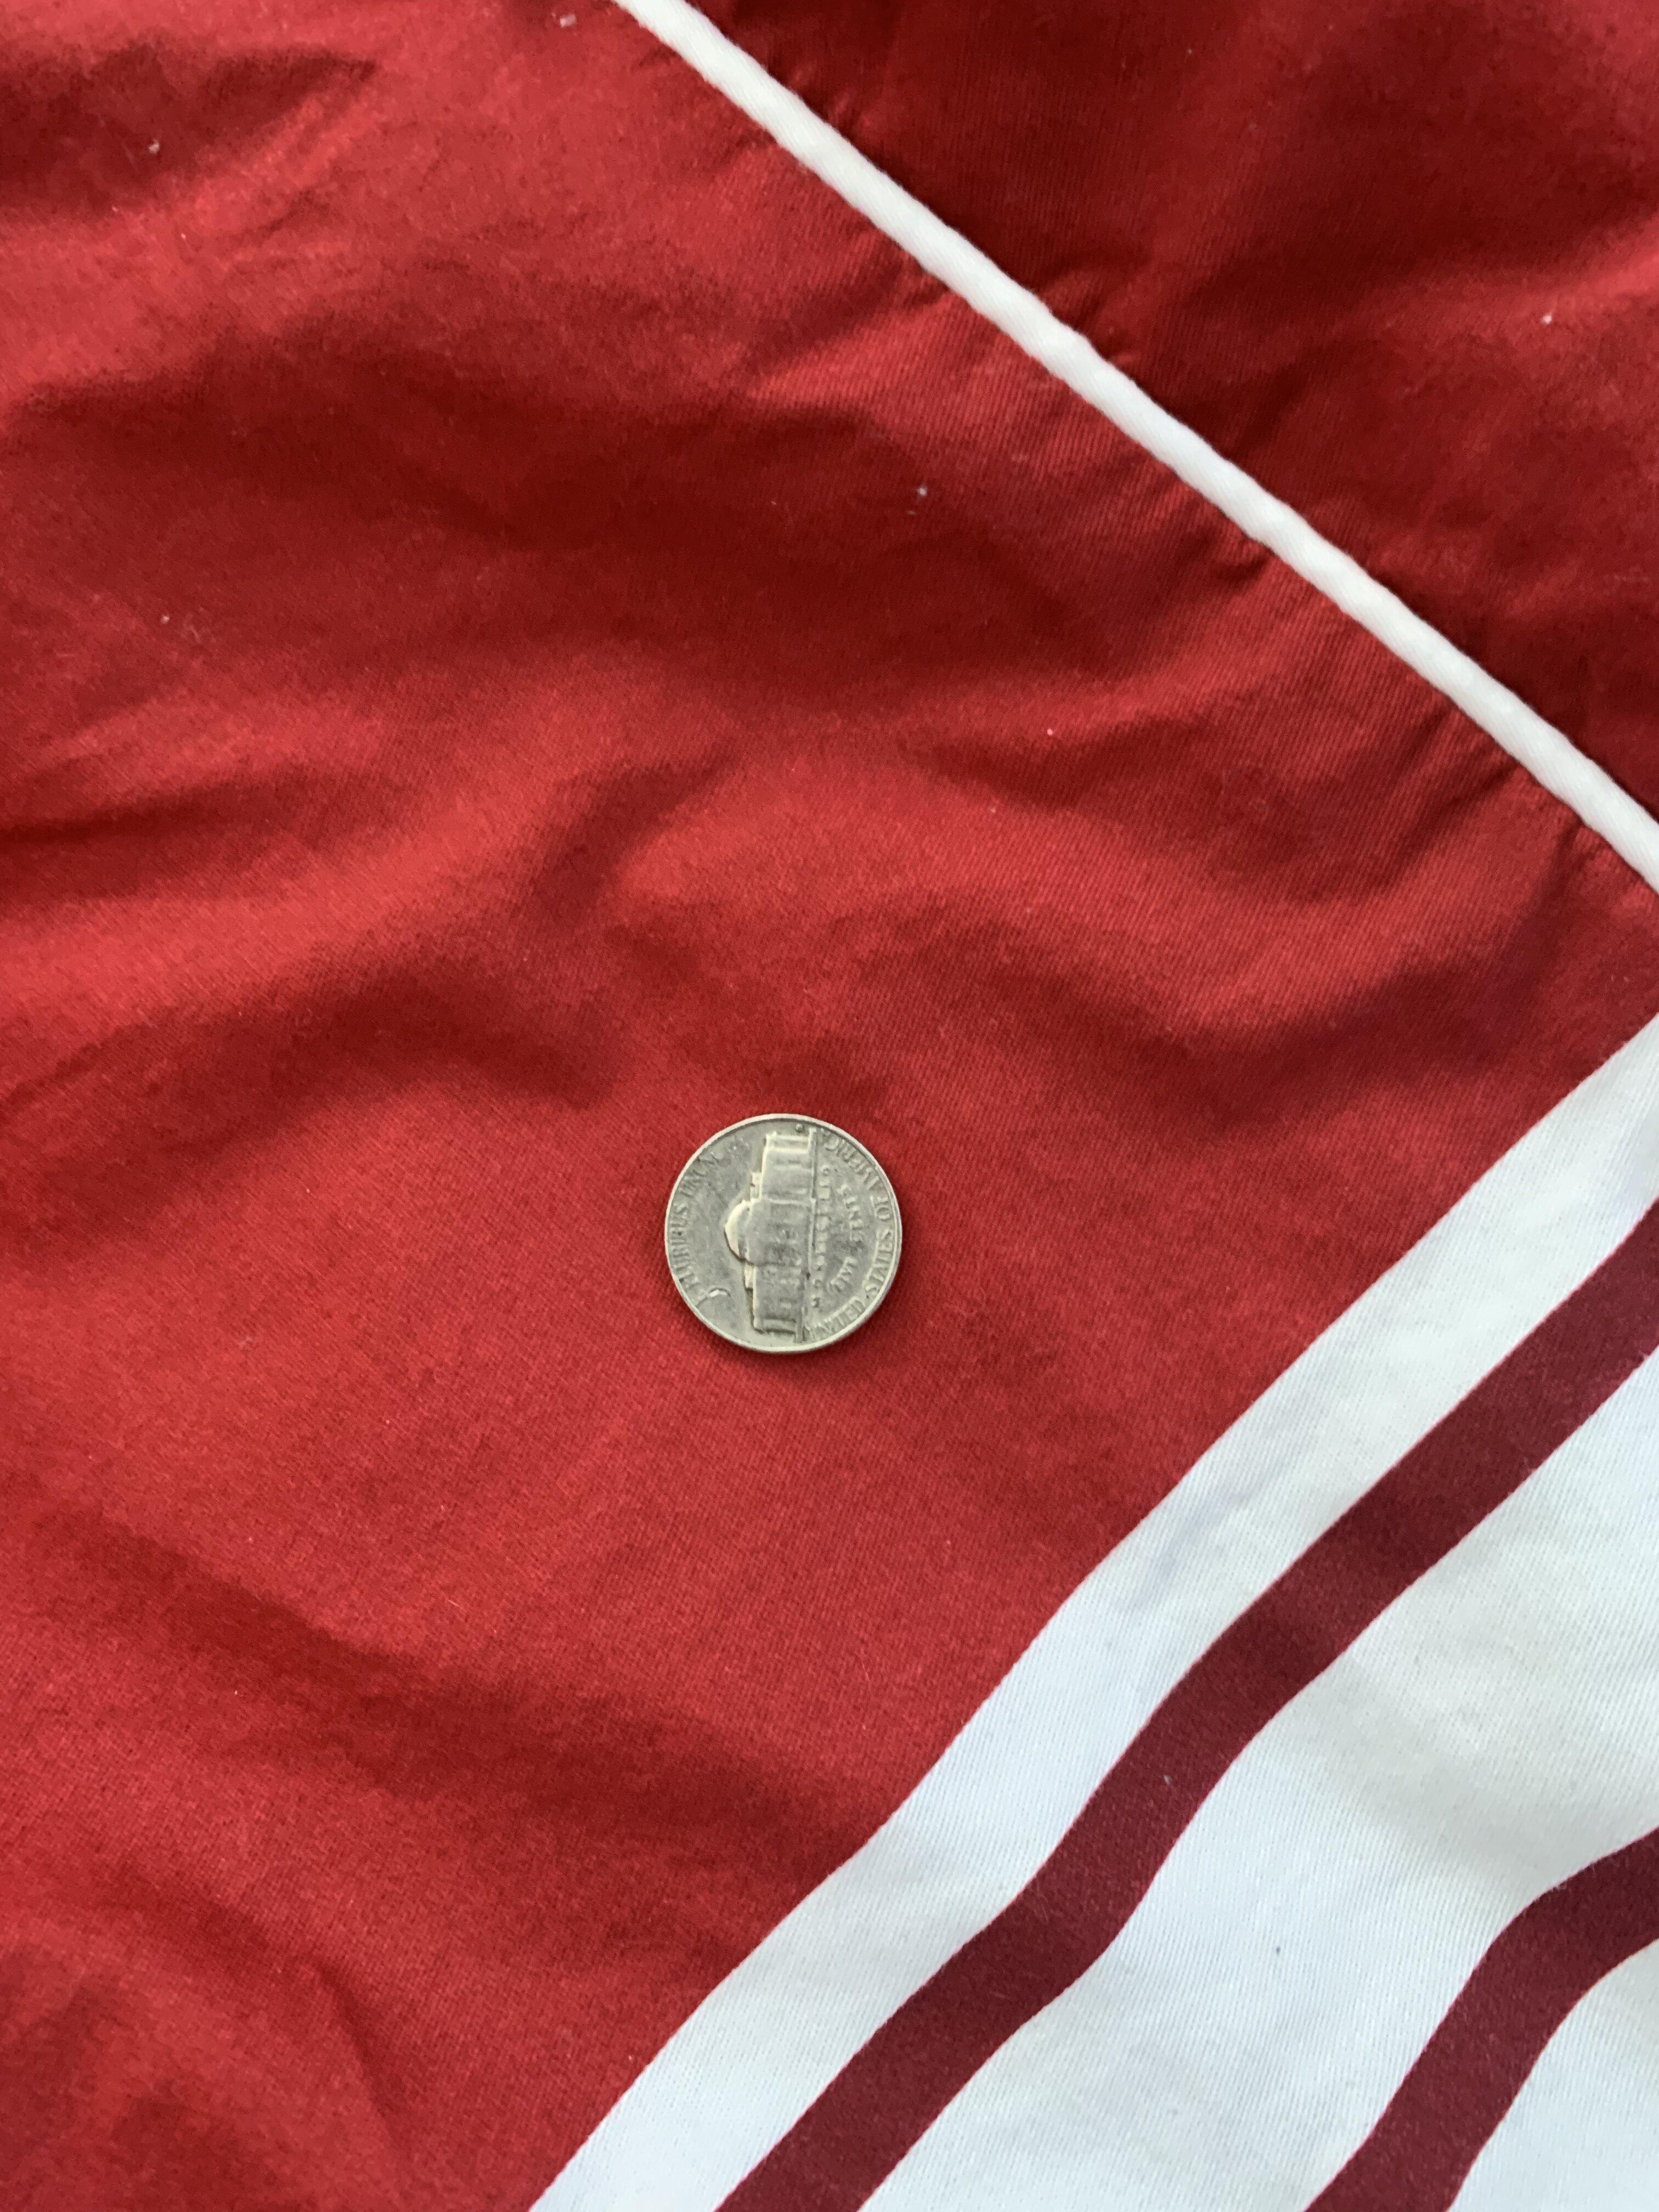Nickel: (613, 1087, 951, 1390)
